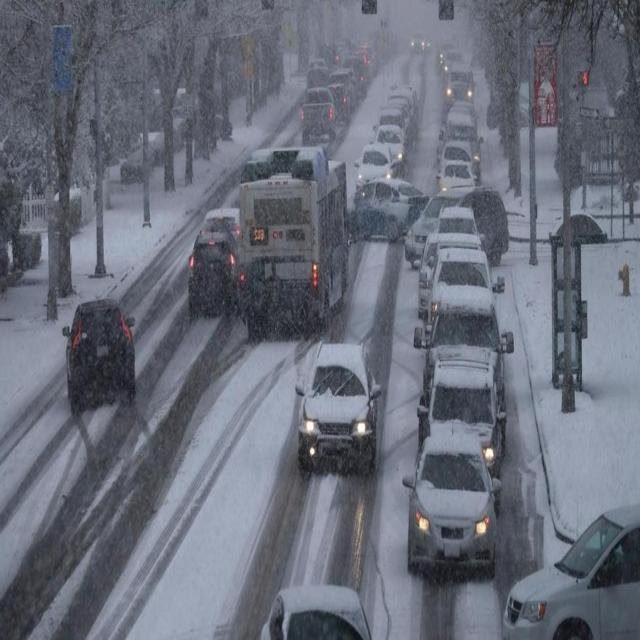Car: (501, 505, 640, 640), (402, 431, 503, 578), (414, 284, 514, 406), (418, 344, 506, 479), (296, 342, 382, 468), (404, 185, 510, 267), (62, 298, 136, 411), (419, 247, 506, 329), (414, 232, 494, 314), (260, 587, 374, 640), (345, 178, 429, 244), (187, 227, 239, 316), (438, 113, 484, 170), (354, 143, 396, 188), (438, 204, 485, 244), (370, 124, 408, 170), (200, 208, 240, 246), (435, 162, 478, 192), (551, 212, 607, 235), (446, 62, 476, 101), (341, 56, 368, 98), (332, 66, 358, 108), (436, 140, 473, 169), (328, 84, 352, 127), (372, 110, 406, 140), (449, 100, 480, 127), (443, 50, 465, 84), (444, 106, 475, 126), (305, 67, 329, 88), (350, 50, 370, 74), (438, 42, 454, 67), (409, 32, 427, 52)
Truck: (237, 146, 351, 344), (299, 87, 338, 144)
